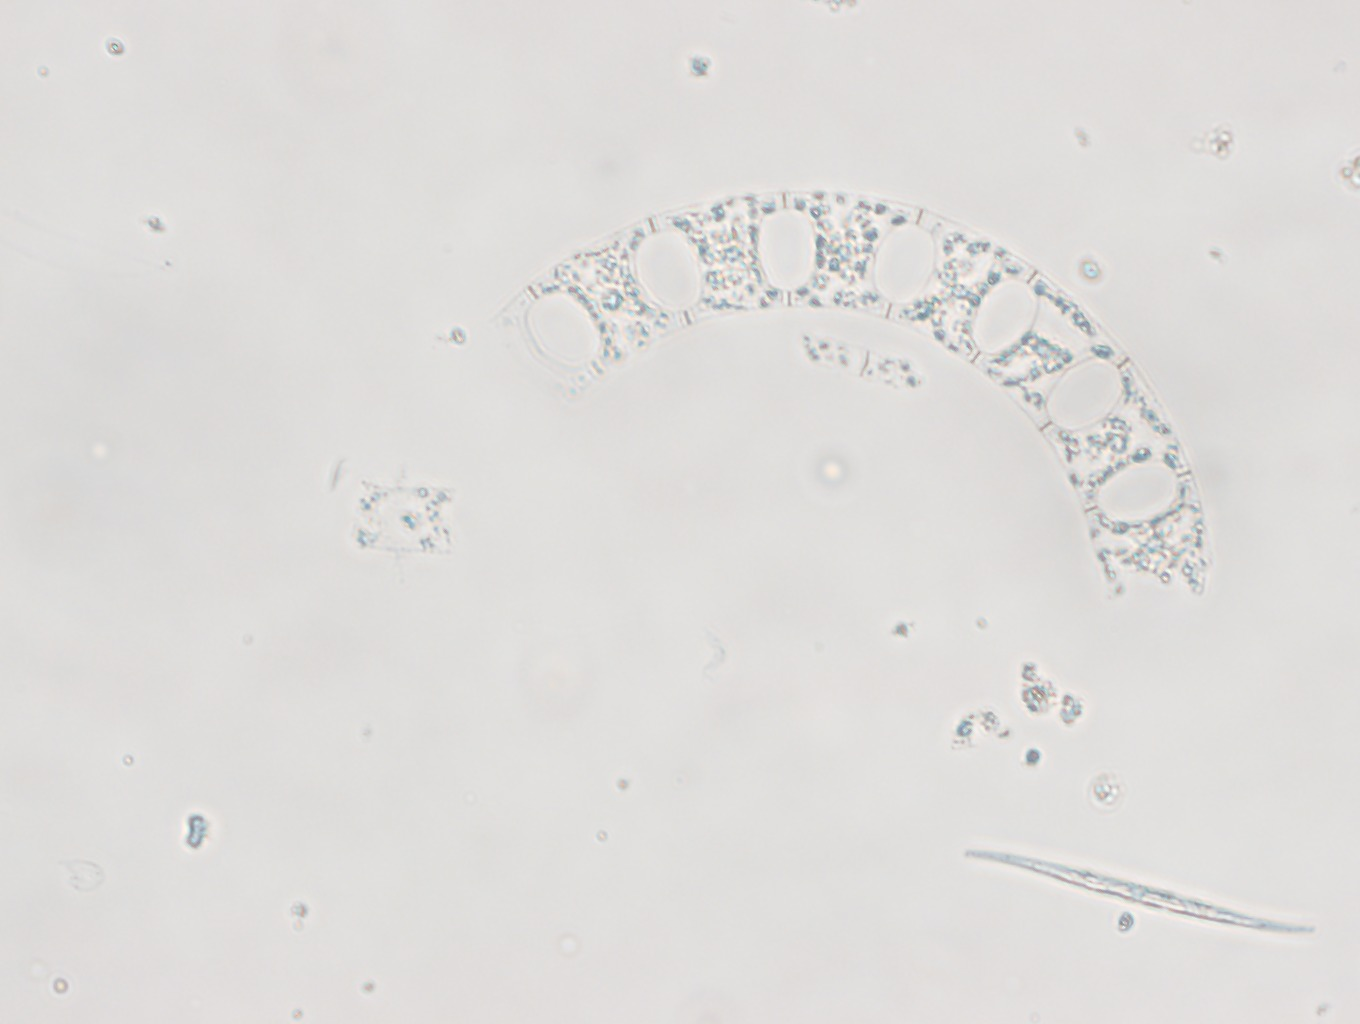eucampia: (493, 187, 1215, 600)
pleurosigma pelagicum: (963, 847, 1315, 931)
